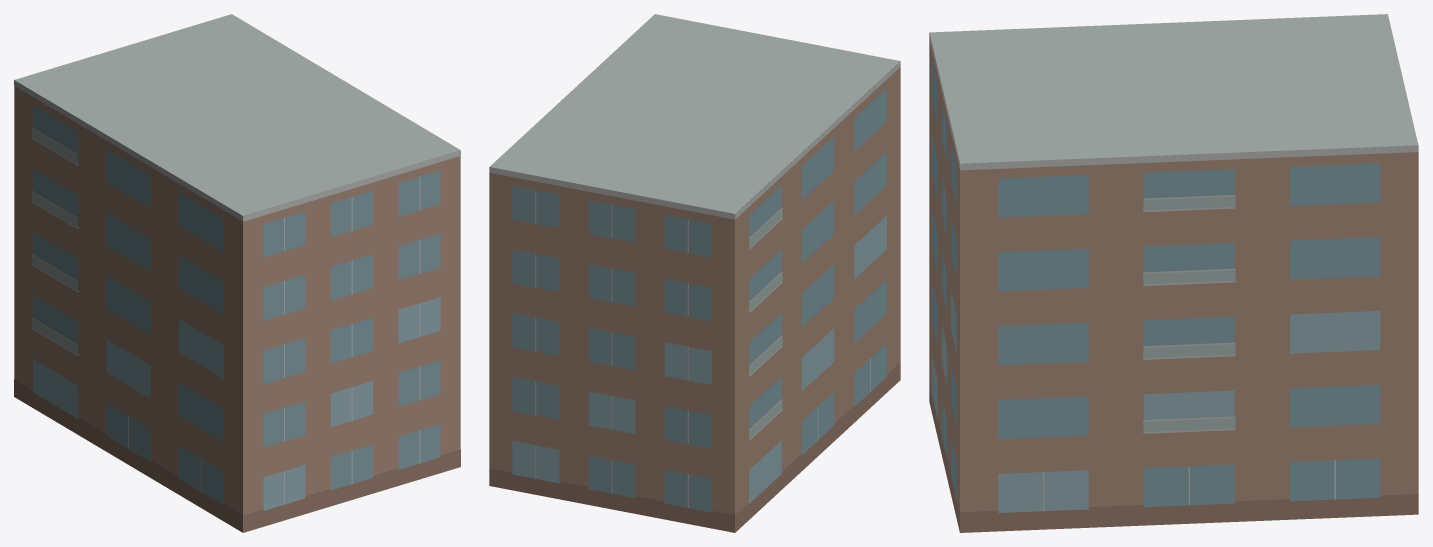
File: survey-upis-32636343.glb
3 renders of one model, left to right at view 1: azimuth 30°, elevation 25°; view 2: azimuth 150°, elevation 25°; view 3: azimuth 270°, elevation 25°, orthographic. The views are drawn at different scales.
Visible parts, largest first — view 1: survey-upis-32636343.tmp; view 2: survey-upis-32636343.tmp; view 3: survey-upis-32636343.tmp.
Boxes of the visible parts, left/top/right/bottom form: survey-upis-32636343.tmp: left=14, top=14, right=460, bottom=532; survey-upis-32636343.tmp: left=489, top=14, right=900, bottom=532; survey-upis-32636343.tmp: left=929, top=14, right=1418, bottom=532.
Size of the model in its own units: 11.66 by 13.4 by 16.1.
